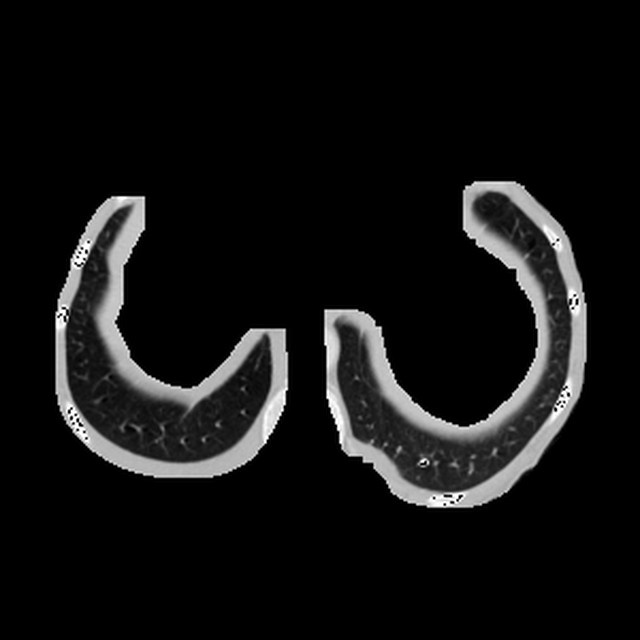PN: (418, 459, 427, 467)
